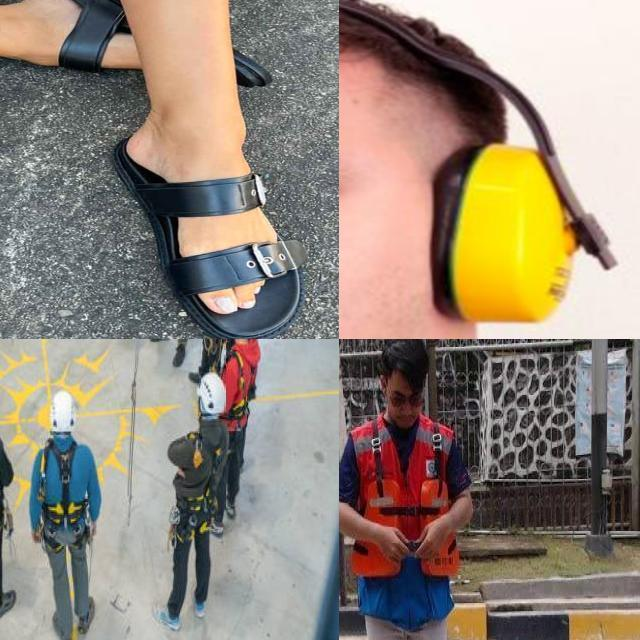Ear-protection: (339, 0, 579, 339)
Harness: (165, 428, 226, 546), (41, 443, 93, 557), (228, 342, 264, 450)
Sandals: (106, 105, 305, 339)
vest: (352, 413, 459, 617)
